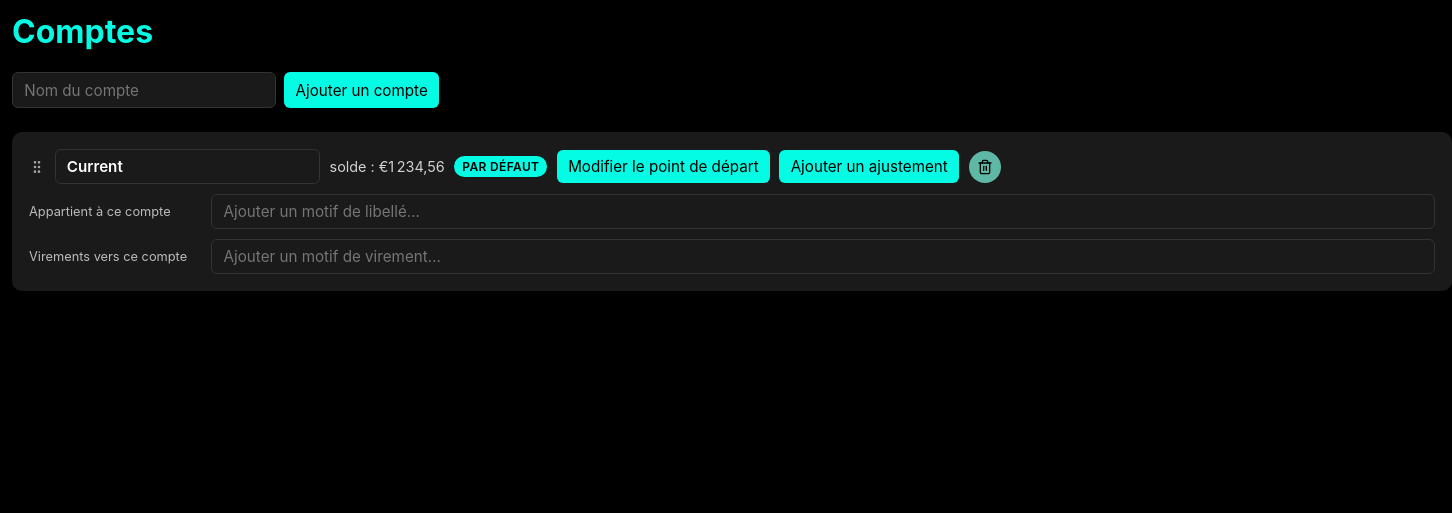
Test: starting-point panel › pre-fills with the balance in the language's own separators
This screenshot has width=1452, height=513.
Expected: the list item with class "account" is shown, [12,132,1451,291]
Click the button "Modifier le point de départ".
click(663, 166)  # box [557,150,770,183]
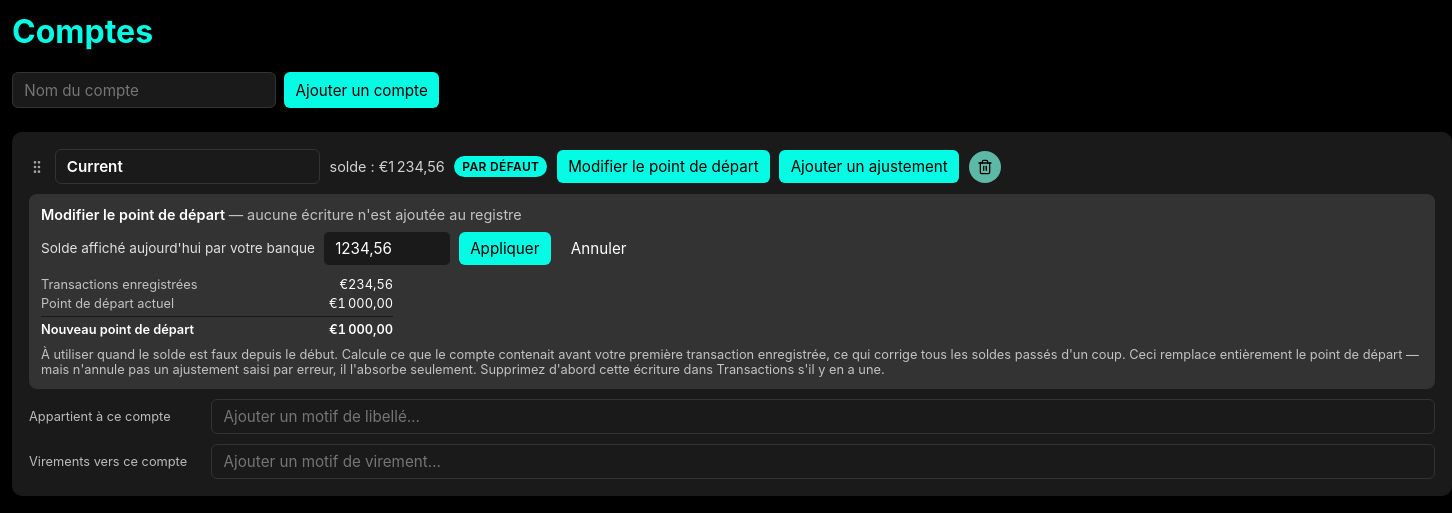
Now the field labelled "Solde affiché aujourd'hui par votre banque" holds "1234,56", box [323,231,451,266]
